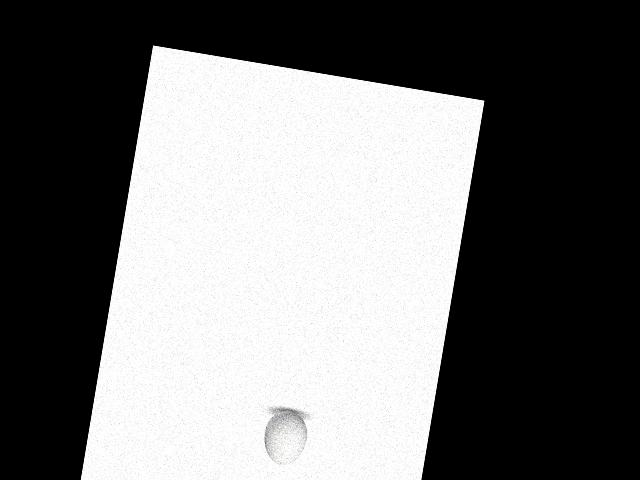egg: (261, 407, 311, 468)
